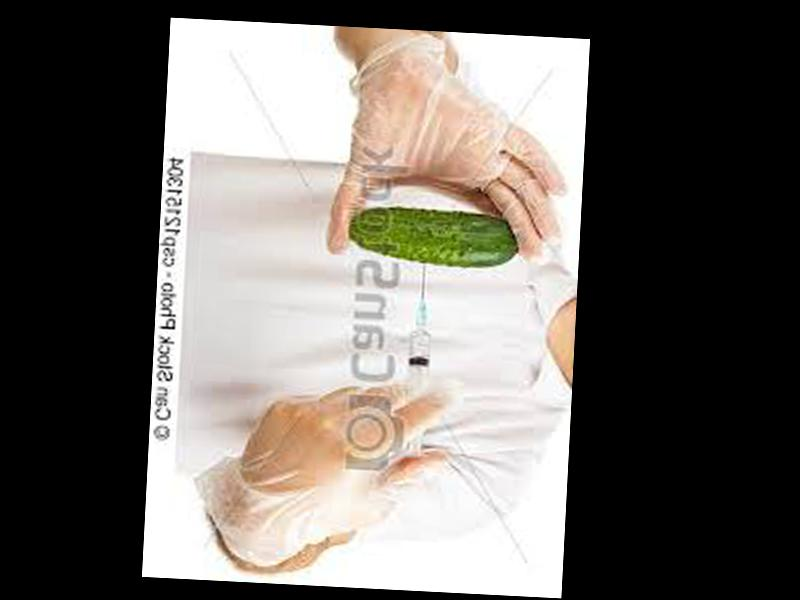Cucumber: (349, 203, 524, 267)
